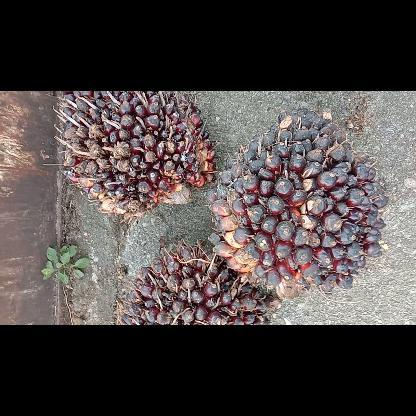TBS mentah: (206, 110, 388, 298), (55, 91, 215, 216), (119, 240, 271, 324)
